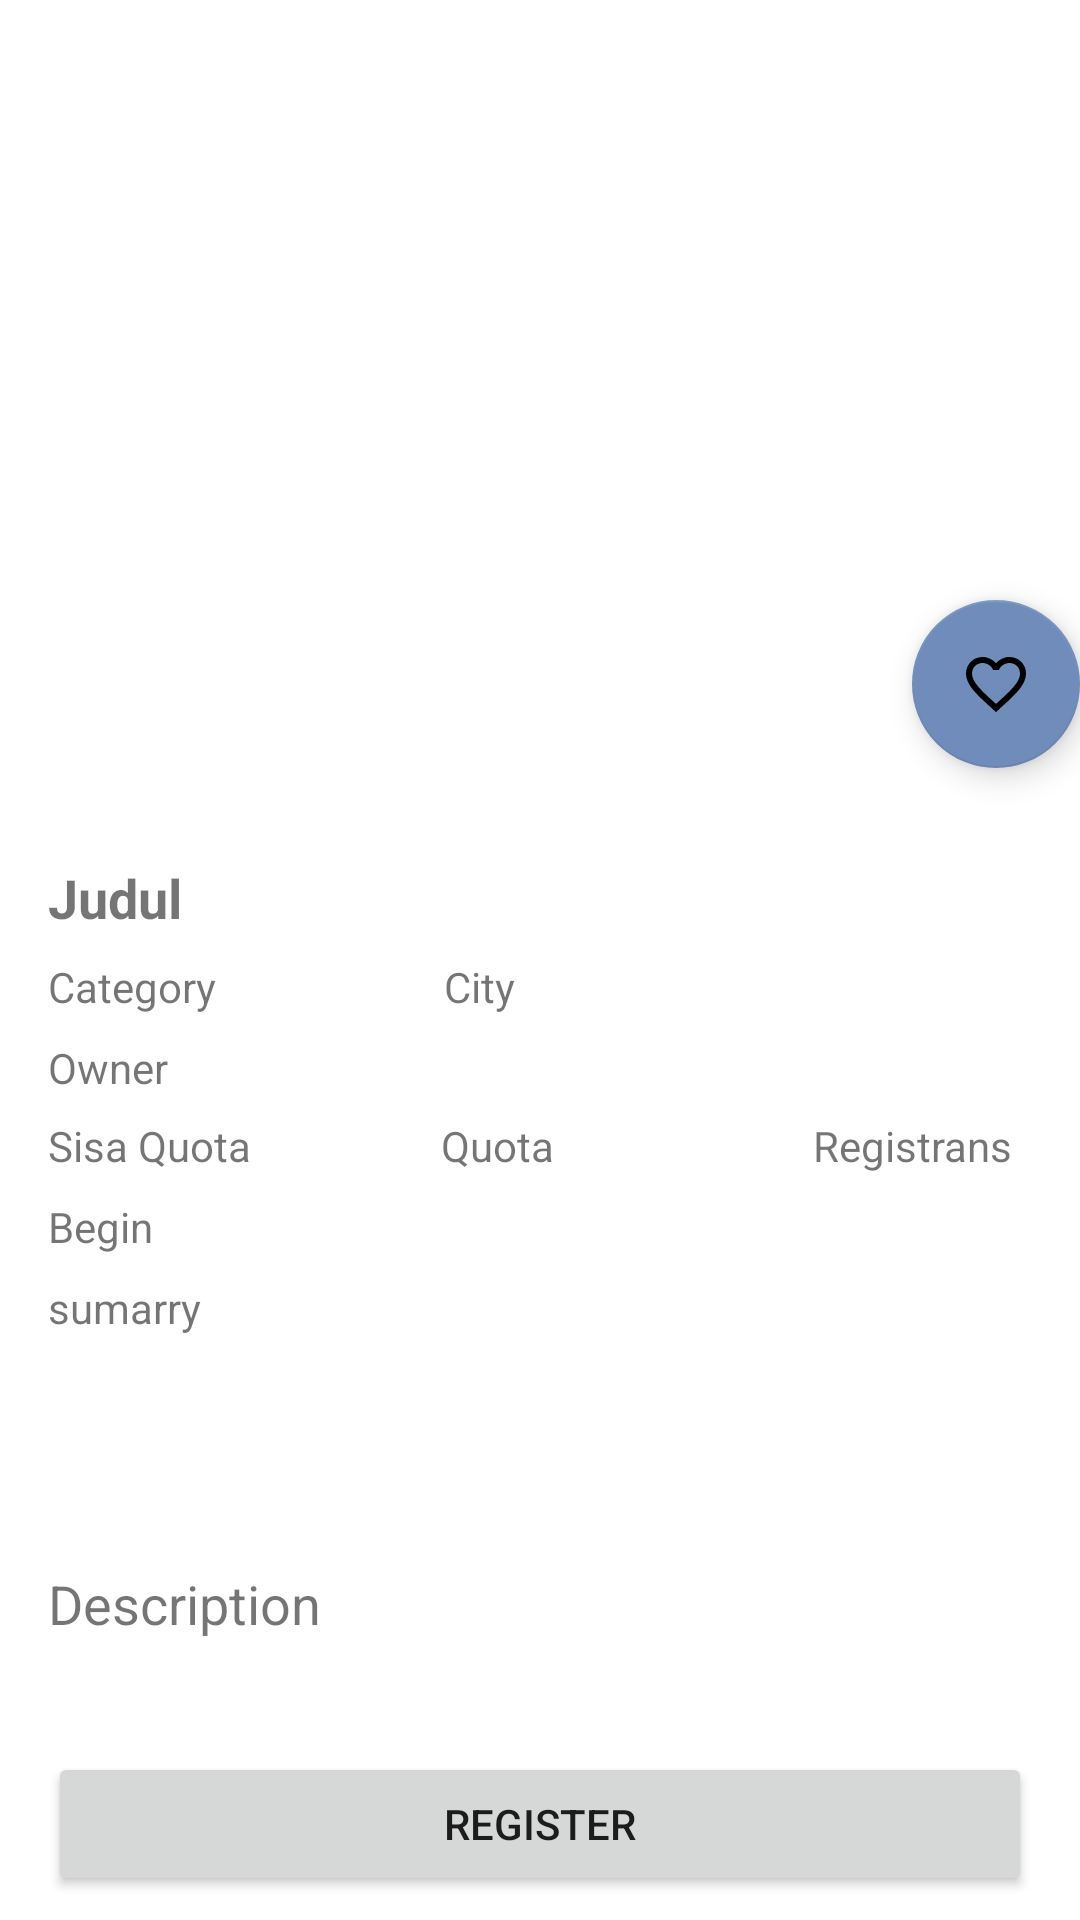

Named icons in this screenshot (1080×1920) and their bounding boxes, BBox(x1, y1, x2, y2):
favorite border: BBox(912, 600, 1080, 768)
